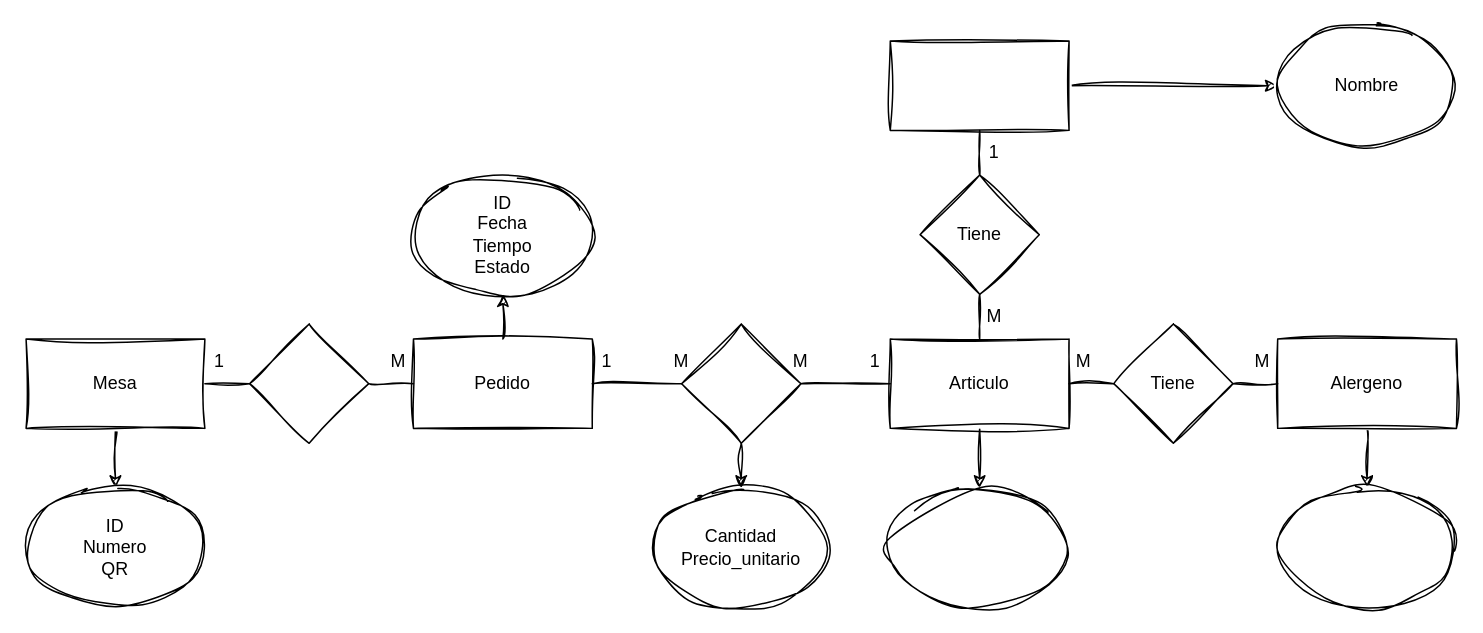
The diagram is 1483 pixels wide and 633 high, and some of its shapes have lost their labels. Here are the shapes that lost their labels. From the top down, the box of each, then its label:
(889, 39, 1069, 130): Categoria
(248, 323, 369, 443): Hace
(680, 323, 801, 443): Linea Pedido
(889, 486, 1069, 607): Nombre Precio Imagen Descripcion Destino
(1276, 486, 1456, 607): Nombre Imagen
